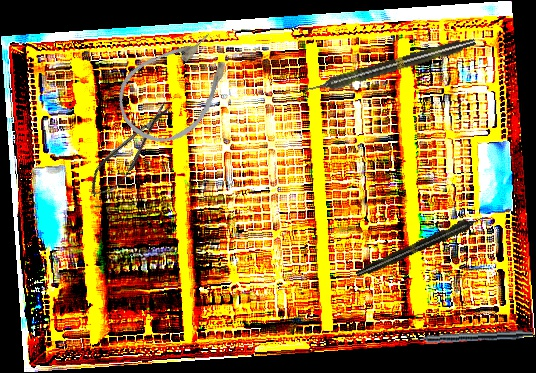Cannula: (102, 15, 251, 161)
Handpiece: (301, 34, 478, 98), (354, 210, 490, 281), (402, 326, 535, 346)
Micro Scissor: (81, 96, 181, 204)
